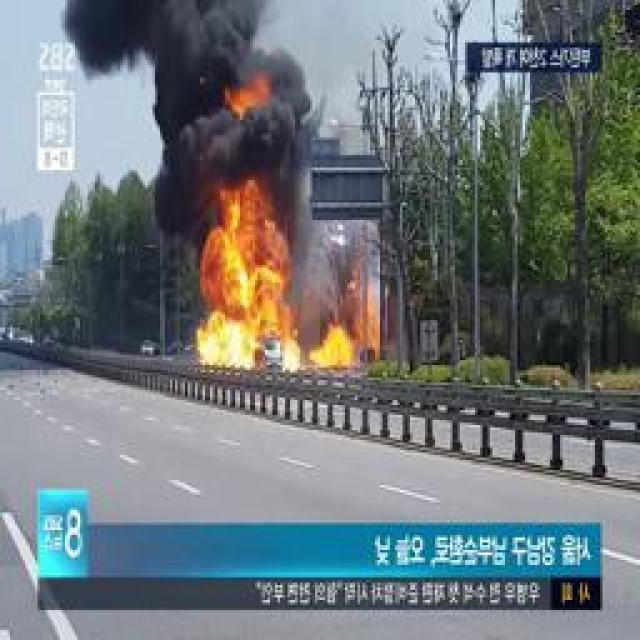Fire: (196, 195, 289, 366), (318, 324, 358, 363), (361, 275, 375, 348)
